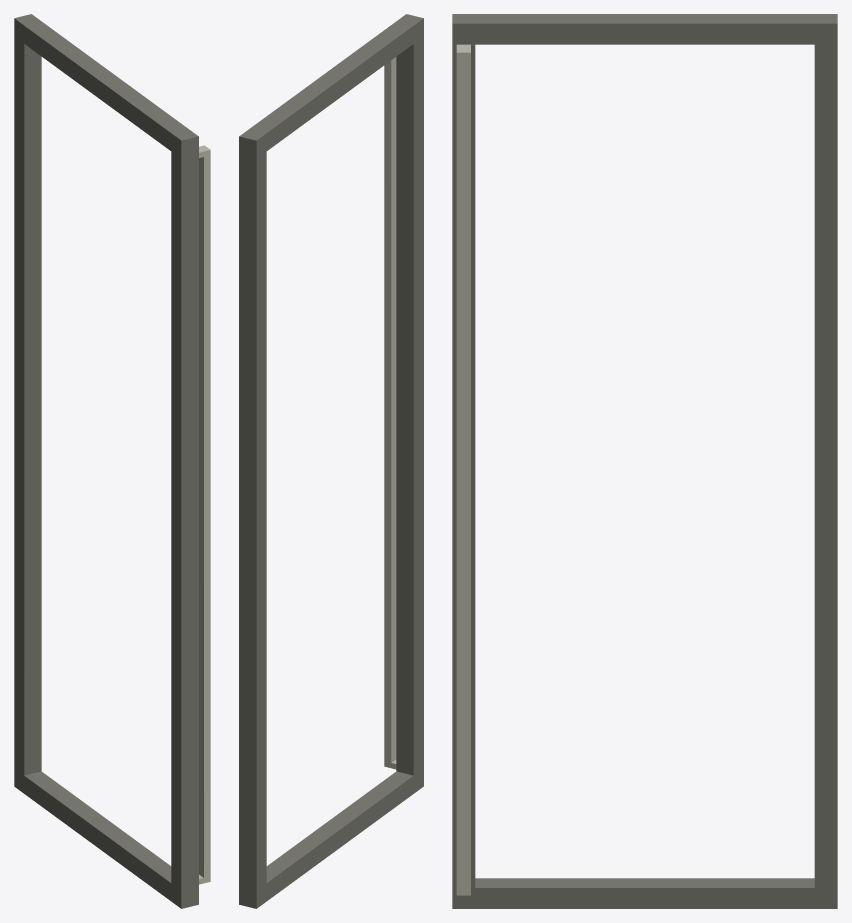
File: cabinet_1_door.fbx
3 renders of one model, left to right at view 1: azimuth 30°, elevation 25°; view 2: azimuth 150°, elevation 25°; view 3: azimuth 270°, elevation 25°, orthographic. The views are drawn at different scales.
Parts seen in each view (by area): view 1: Cabinet1Door-material; view 2: Cabinet1Door-material; view 3: Cabinet1Door-material.
Boxes of the visible parts, x1=… form: Cabinet1Door-material: x1=14, y1=14, x2=210, y2=908; Cabinet1Door-material: x1=239, y1=14, x2=423, y2=908; Cabinet1Door-material: x1=452, y1=14, x2=837, y2=908.
Bounding box in the file's own units: 1.14 × 26.69 × 10.54.
1 material, 1 textured.
